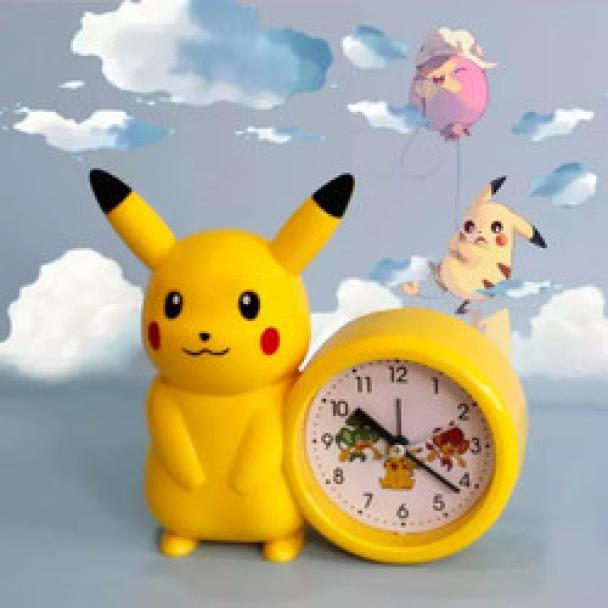Jam: (292, 313, 529, 561)
